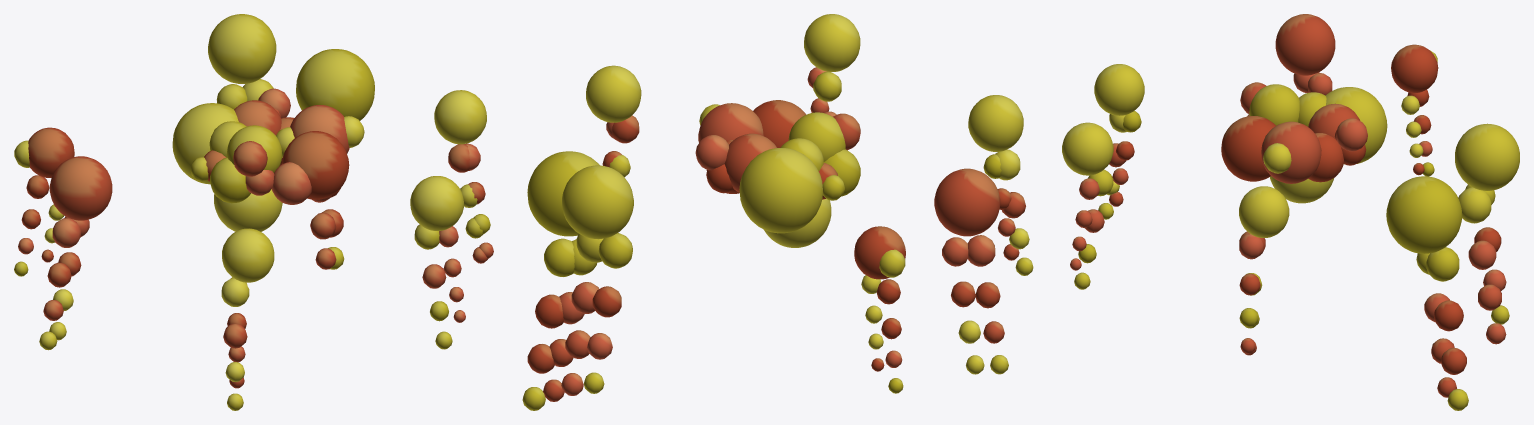
File: colony-tree-21.obj
3 views of the same model, side by side, from view 1: azimuth 30°, elevation 25°; view 2: azimuth 150°, elevation 25°; view 3: azimuth 270°, elevation 25° (orthographic). The views are drawn at different scales.
Parts seen in each view (by area): view 1: tree; view 2: tree; view 3: tree.
Boxes of the visible parts, x1,y1,x2,y2 form: tree: (14,14,493,410); tree: (522,14,1033,410); tree: (1062,14,1519,410).
Bounding box in the file's own units: 787 × 463 × 774.
